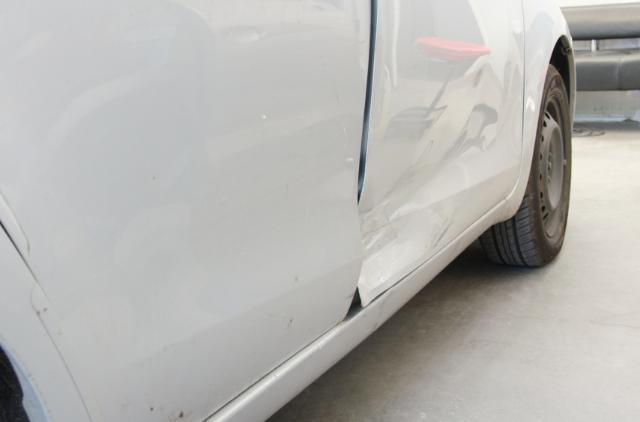Door: (358, 98, 471, 309)
